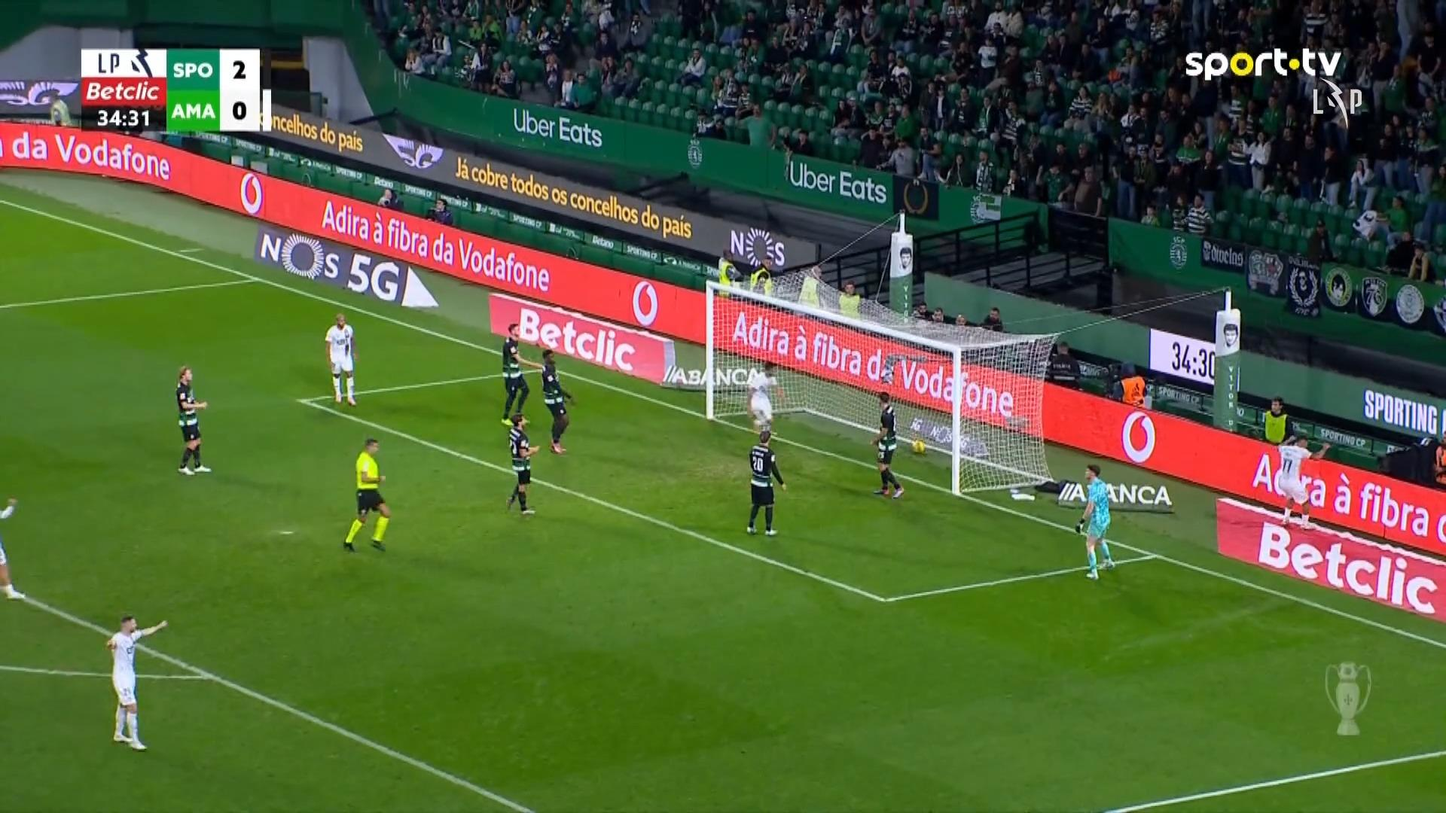ball: (912, 439, 925, 453)
goalkeeper: (1075, 463, 1115, 580)
player: (105, 614, 168, 751), (513, 346, 576, 454), (1273, 433, 1332, 531), (745, 429, 786, 536), (500, 412, 540, 516), (175, 364, 212, 476), (869, 390, 905, 498), (500, 322, 535, 424), (744, 360, 784, 440), (324, 312, 358, 406), (0, 496, 26, 600)
referee: (342, 437, 391, 552)
